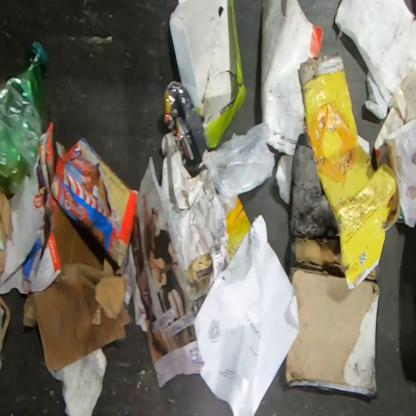cardboard: (297, 53, 402, 289), (21, 200, 133, 372), (285, 267, 381, 397), (50, 136, 140, 268), (284, 132, 345, 284), (365, 268, 377, 283)
metal: (163, 80, 209, 178)
rigid_plastic: (0, 40, 50, 196)
soft_plastic: (169, 0, 247, 150), (202, 121, 276, 209)
